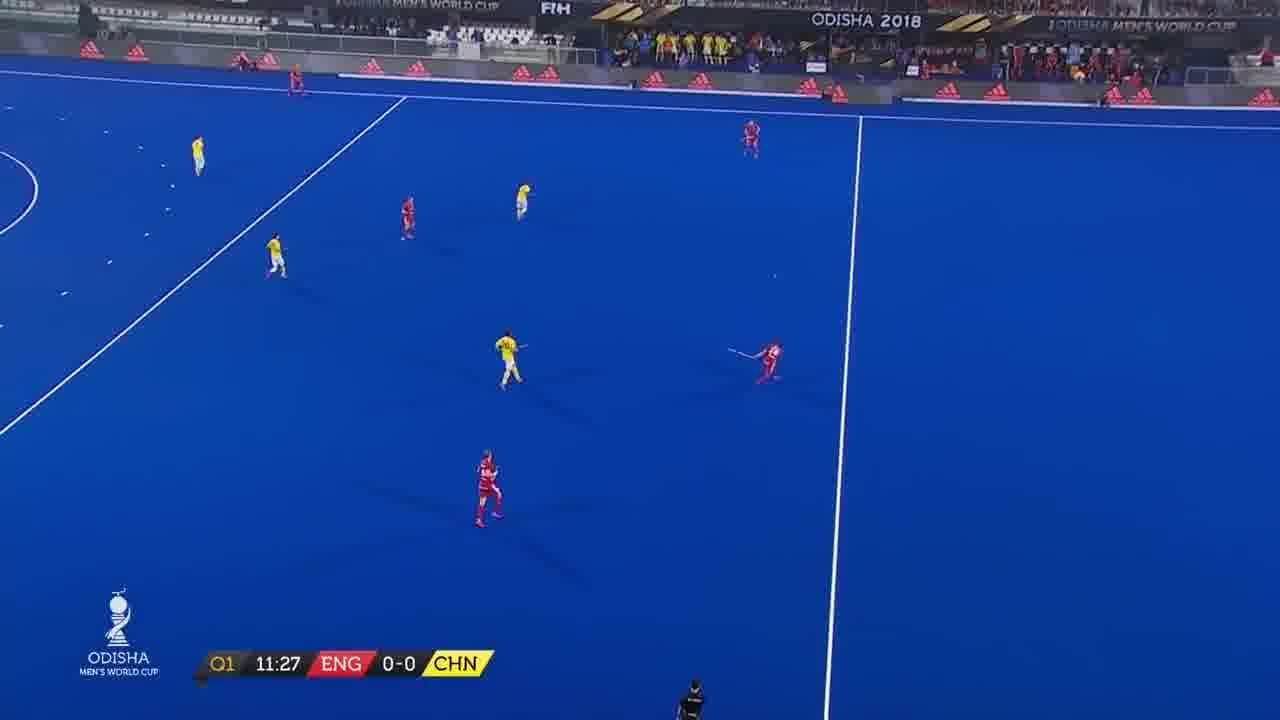ball: (770, 272, 779, 280)
